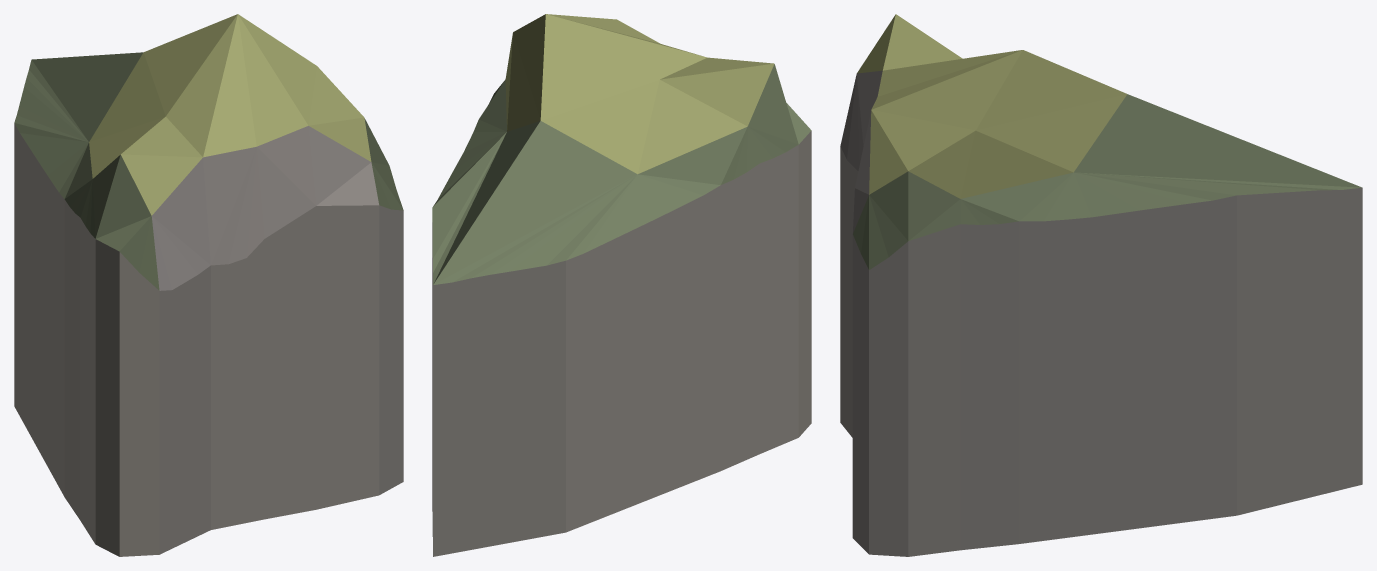
Rendered from cliff_western_slab.glb.
The picture shows the model from 3 angles, left to right: view 1: azimuth 30°, elevation 25°; view 2: azimuth 150°, elevation 25°; view 3: azimuth 270°, elevation 25°; orthographic projection. The views are drawn at different scales.
Parts seen in each view (by area): view 1: cliff_western_slab; view 2: cliff_western_slab; view 3: cliff_western_slab.
Boxes of the visible parts, box(x1,y1,x2,y2) form: cliff_western_slab: box(14, 14, 403, 556); cliff_western_slab: box(432, 14, 811, 556); cliff_western_slab: box(840, 14, 1362, 556).
Bounding box in the file's own units: 55.6 × 77.32 × 79.97.
